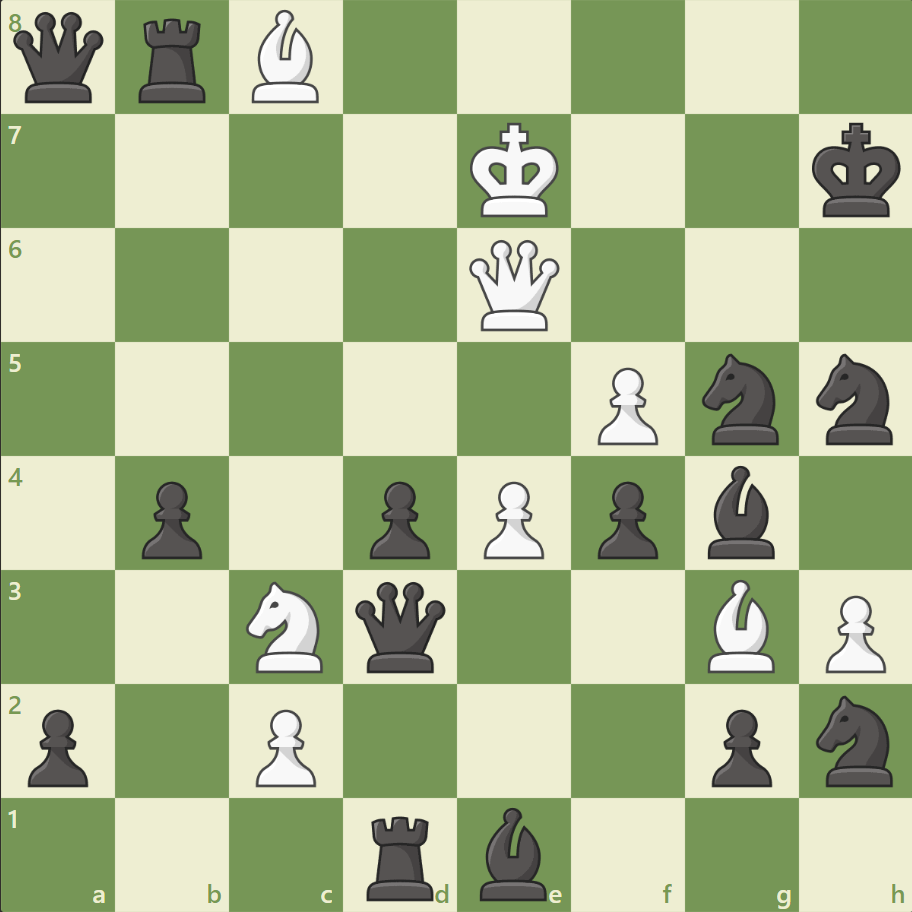B: (244, 6, 328, 109), (698, 574, 782, 676)
K: (465, 117, 565, 225)
N: (238, 575, 335, 677)
P: (474, 473, 549, 564), (247, 700, 322, 791), (588, 359, 662, 450), (815, 586, 889, 677)
Q: (464, 236, 563, 335)
b: (698, 460, 782, 563), (471, 801, 555, 904)
k: (806, 117, 906, 225)
n: (806, 688, 903, 791), (692, 348, 789, 450), (806, 348, 903, 450)
p: (133, 473, 208, 564), (20, 700, 95, 791), (701, 700, 776, 791), (361, 473, 435, 564), (588, 473, 662, 564)
q: (351, 576, 450, 676), (10, 9, 109, 108)
r: (360, 806, 442, 904), (133, 12, 215, 109)
